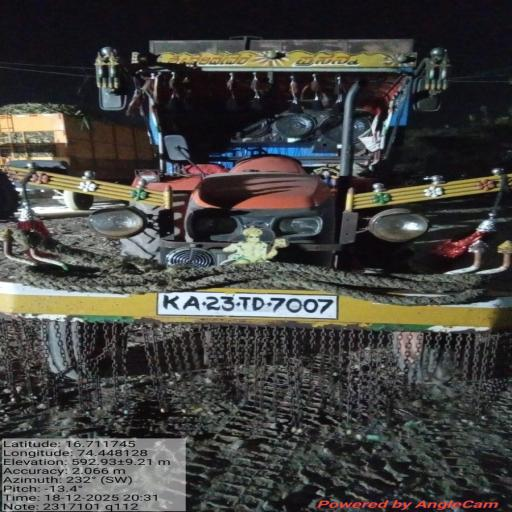number_plate: (158, 292, 337, 319)
